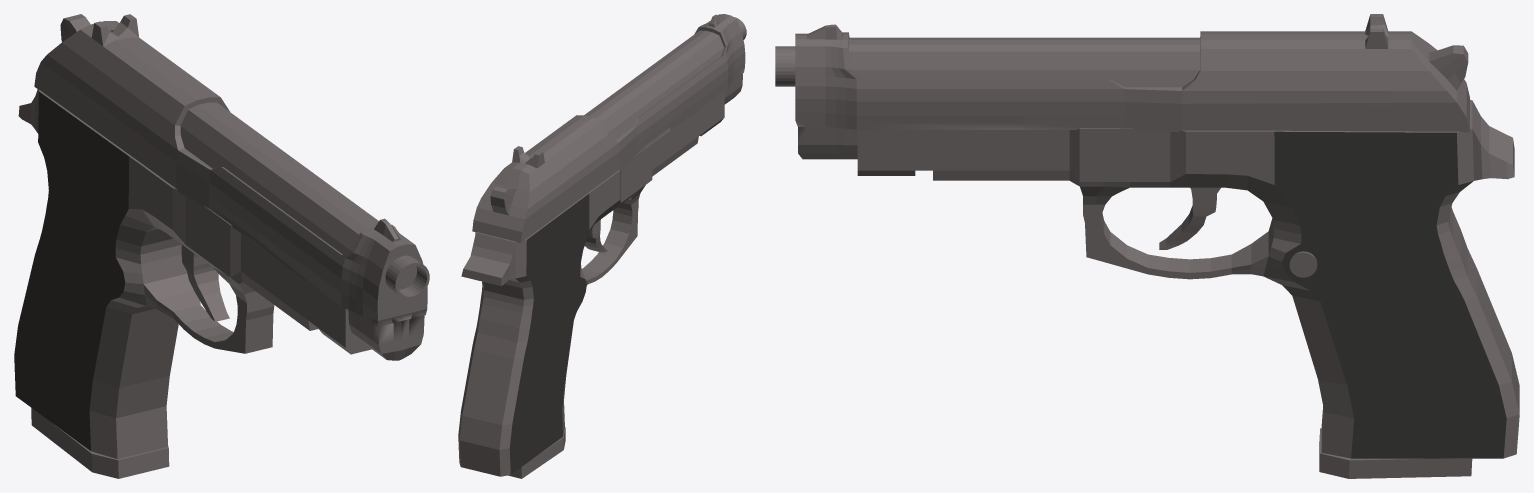
File: 9mm Pistol & 9mm Magazine.fbx
3 renders of one model, left to right at view 1: azimuth 30°, elevation 25°; view 2: azimuth 150°, elevation 25°; view 3: azimuth 270°, elevation 25°, orthographic. The views are drawn at different scales.
Parts seen in each view (by area): view 1: 9mm Pistol, 9mm Pistol Magazine; view 2: 9mm Pistol, 9mm Pistol Magazine; view 3: 9mm Pistol, 9mm Pistol Magazine.
Boxes of the visible parts, x1=… form: 9mm Pistol: x1=14, y1=14, x2=429, y2=458; 9mm Pistol Magazine: x1=31, y1=408, x2=169, y2=478; 9mm Pistol: x1=458, y1=14, x2=746, y2=476; 9mm Pistol Magazine: x1=508, y1=427, x2=565, y2=478; 9mm Pistol: x1=775, y1=14, x2=1519, y2=458; 9mm Pistol Magazine: x1=1319, y1=428, x2=1472, y2=478.
Size of the model in its own units: 0.0314 by 0.1694 by 0.2611.
